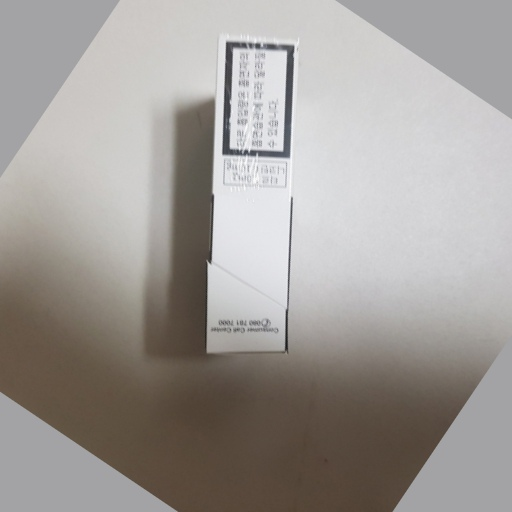Paper_0: (188, 30, 304, 372)
